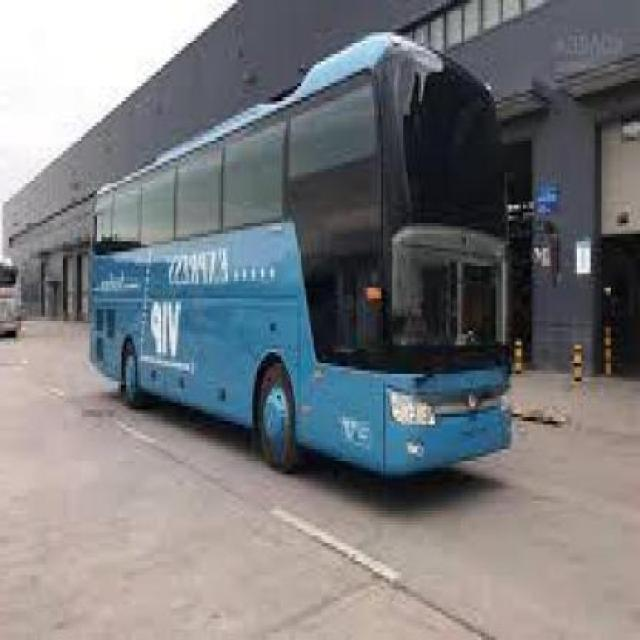bus: (86, 32, 510, 477)
